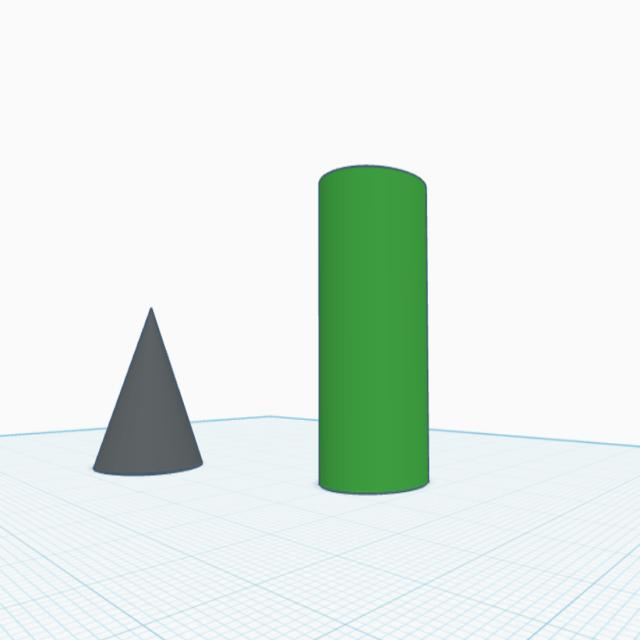cone: (88, 307, 206, 480)
